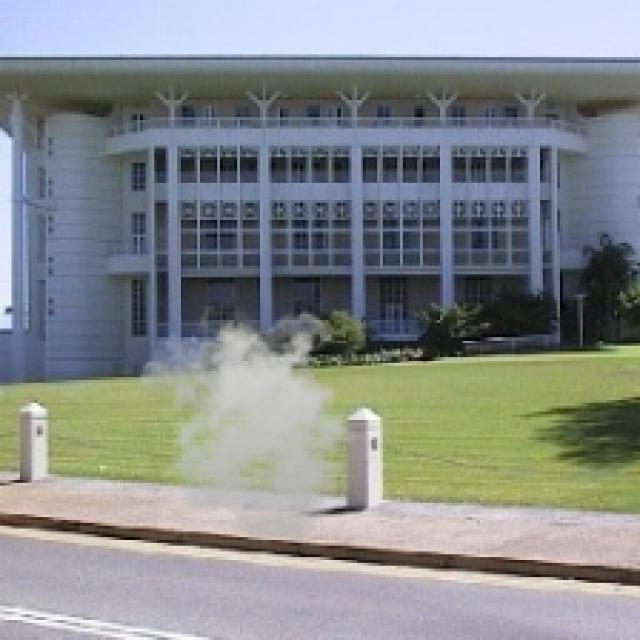Smoke: (140, 306, 372, 546)
